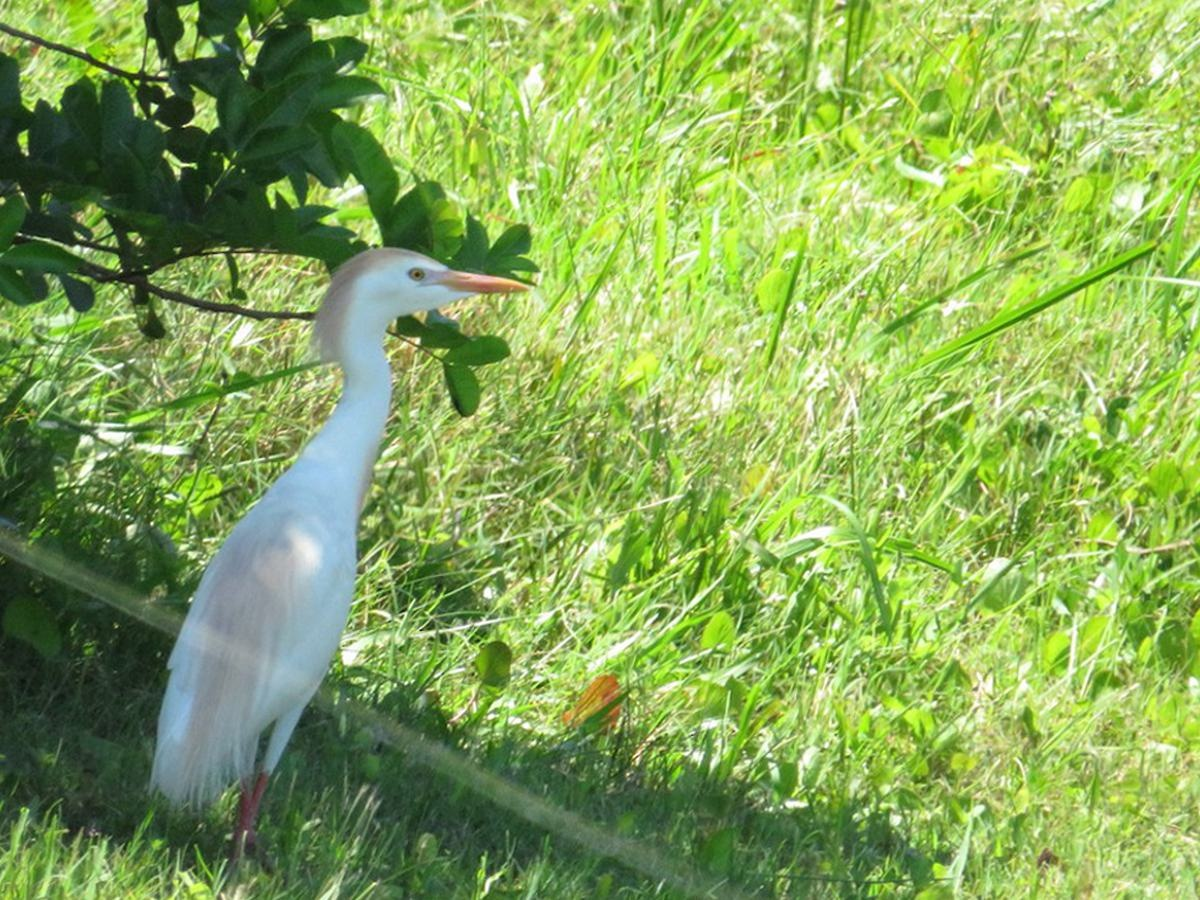egret: (178, 220, 546, 812)
